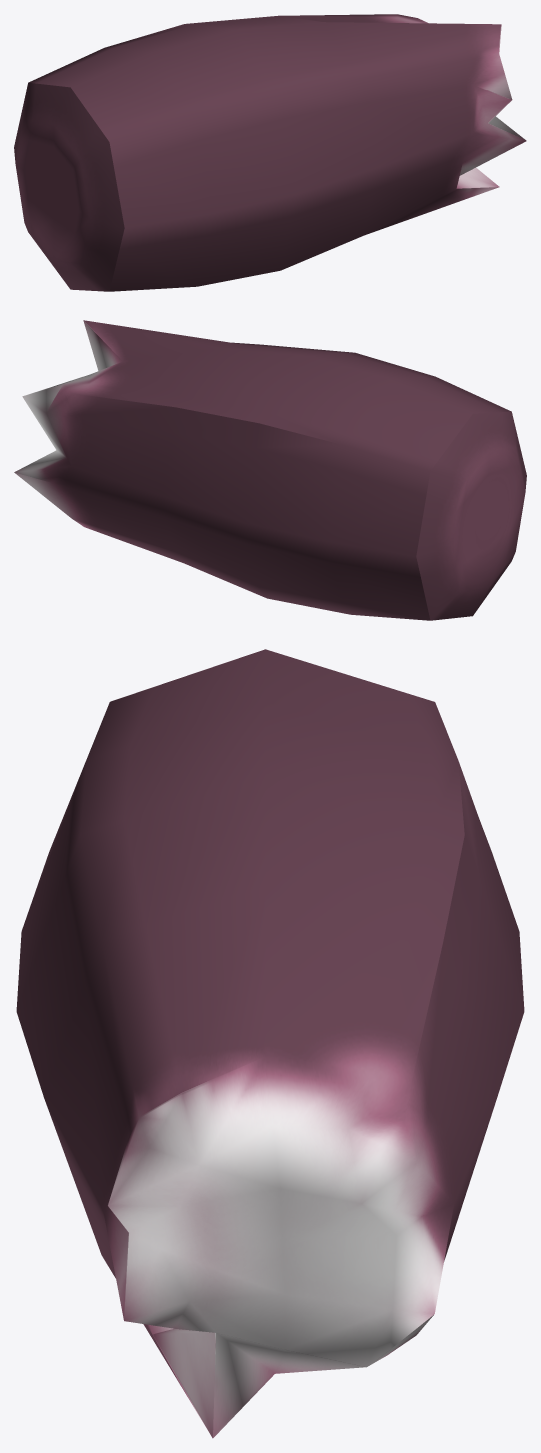
File: rippedArm_Plum.fbx
3 renders of one model, top to bottom at view 1: azimuth 30°, elevation 25°; view 2: azimuth 150°, elevation 25°; view 3: azimuth 270°, elevation 25°, orthographic. The views are drawn at different scales.
Visible parts, largest first — view 1: pCube1; view 2: pCube1; view 3: pCube1.
Part boxes in pixels (left/top/right/bottom): pCube1: left=14, top=14, right=526, bottom=291; pCube1: left=14, top=320, right=526, bottom=620; pCube1: left=16, top=649, right=524, bottom=1438.
Size of the model in its own units: 1.18 by 0.6021 by 0.5848.
Materials: 1 (1 with a texture image).
